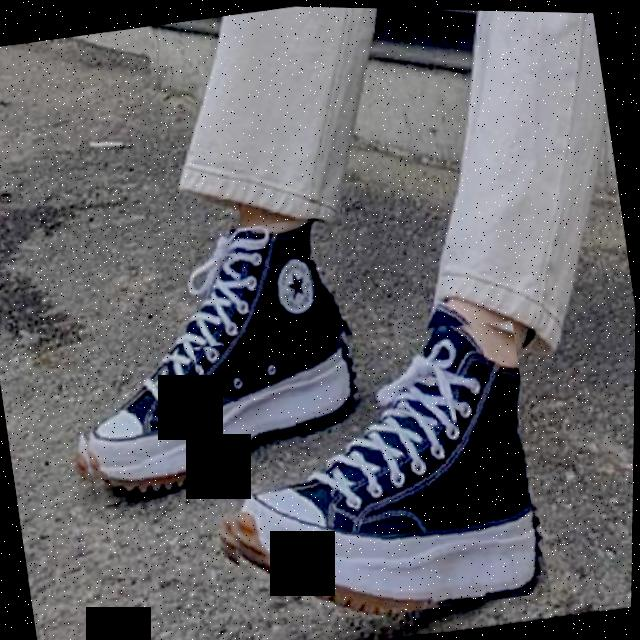shoe: (191, 296, 557, 640), (47, 209, 376, 513)
